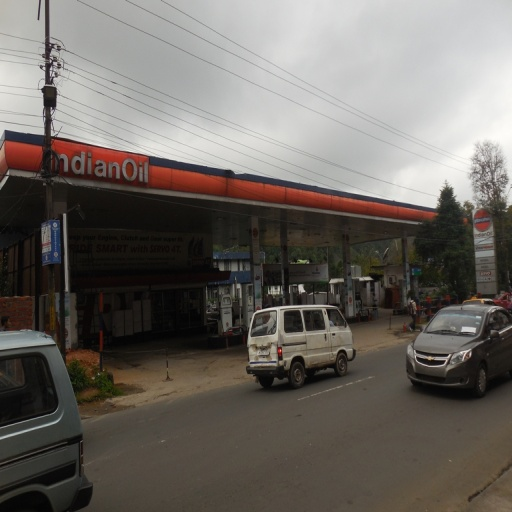roof: (1, 127, 456, 256)
